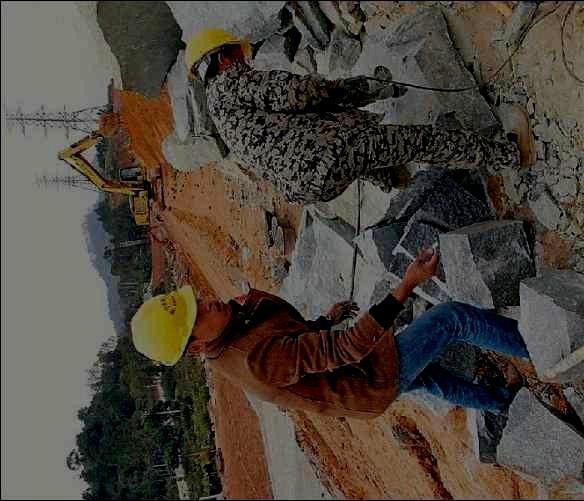helmet: (129, 284, 230, 368), (184, 27, 253, 84)
